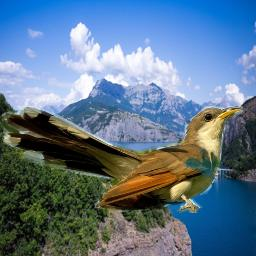Cuckoo: (2, 106, 243, 213)
